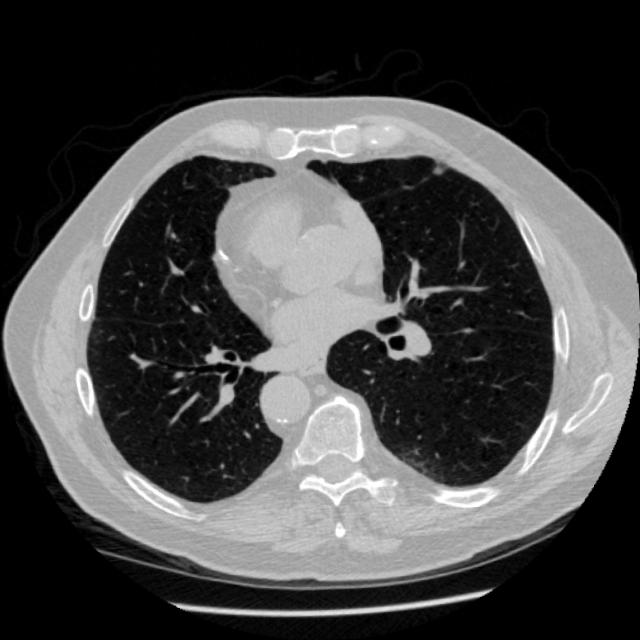nodule: (430, 159, 450, 180)
